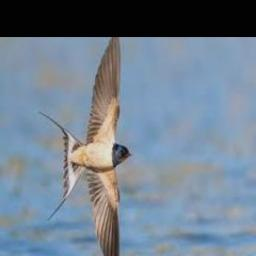Swallow: (37, 37, 131, 256)
